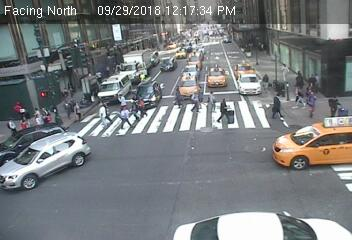car: (1, 133, 92, 191), (173, 211, 351, 240), (272, 113, 352, 166), (1, 123, 62, 156), (116, 49, 152, 83), (98, 76, 132, 103), (135, 78, 162, 108), (176, 72, 200, 99), (205, 64, 228, 92), (236, 72, 263, 95), (232, 60, 257, 75), (180, 61, 199, 78), (148, 49, 163, 67), (160, 57, 175, 73), (187, 50, 201, 67), (174, 47, 187, 60), (164, 38, 177, 49), (221, 34, 232, 44)
